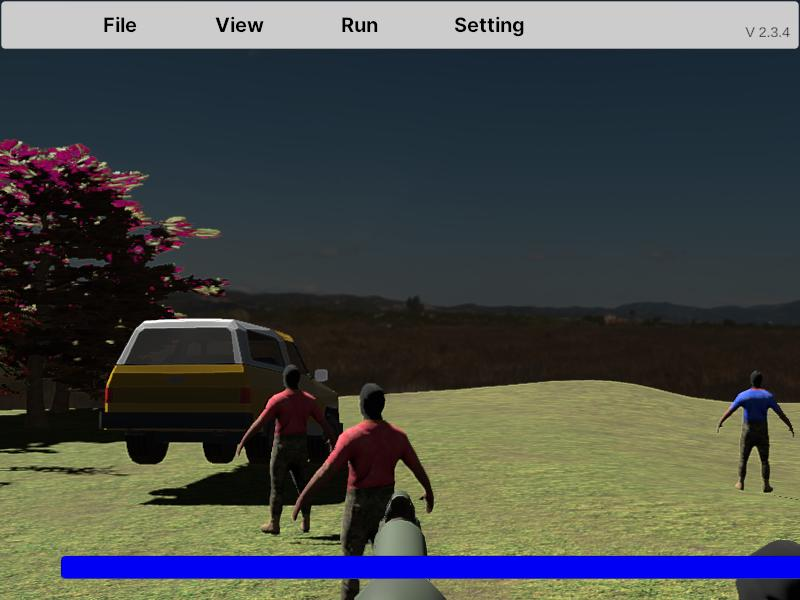Human: (290, 379, 435, 599), (239, 363, 329, 536), (717, 369, 794, 494)
car: (101, 316, 342, 466)
